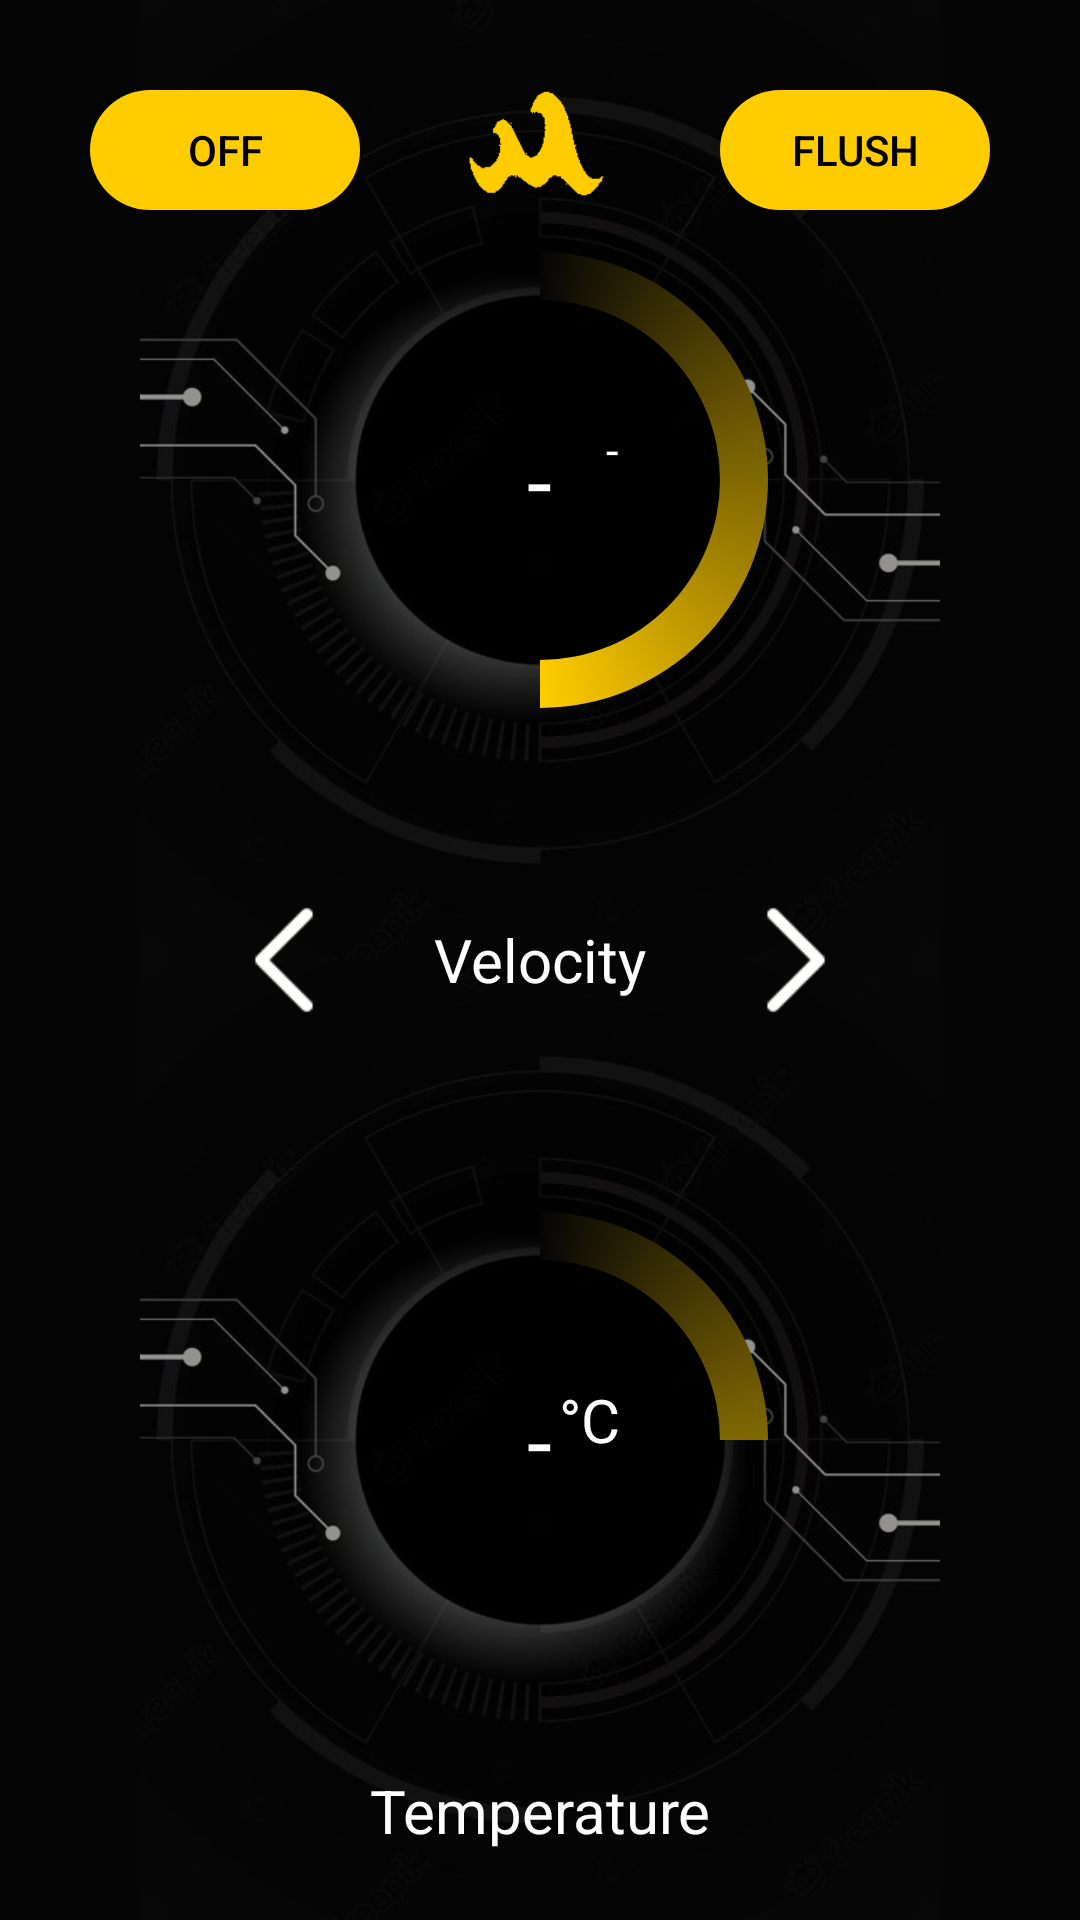

Icons on this 1080px x 1920px Android screen, each with the point to tap as (x,y):
arrow left: (284,960)
arrow right: (796,960)
